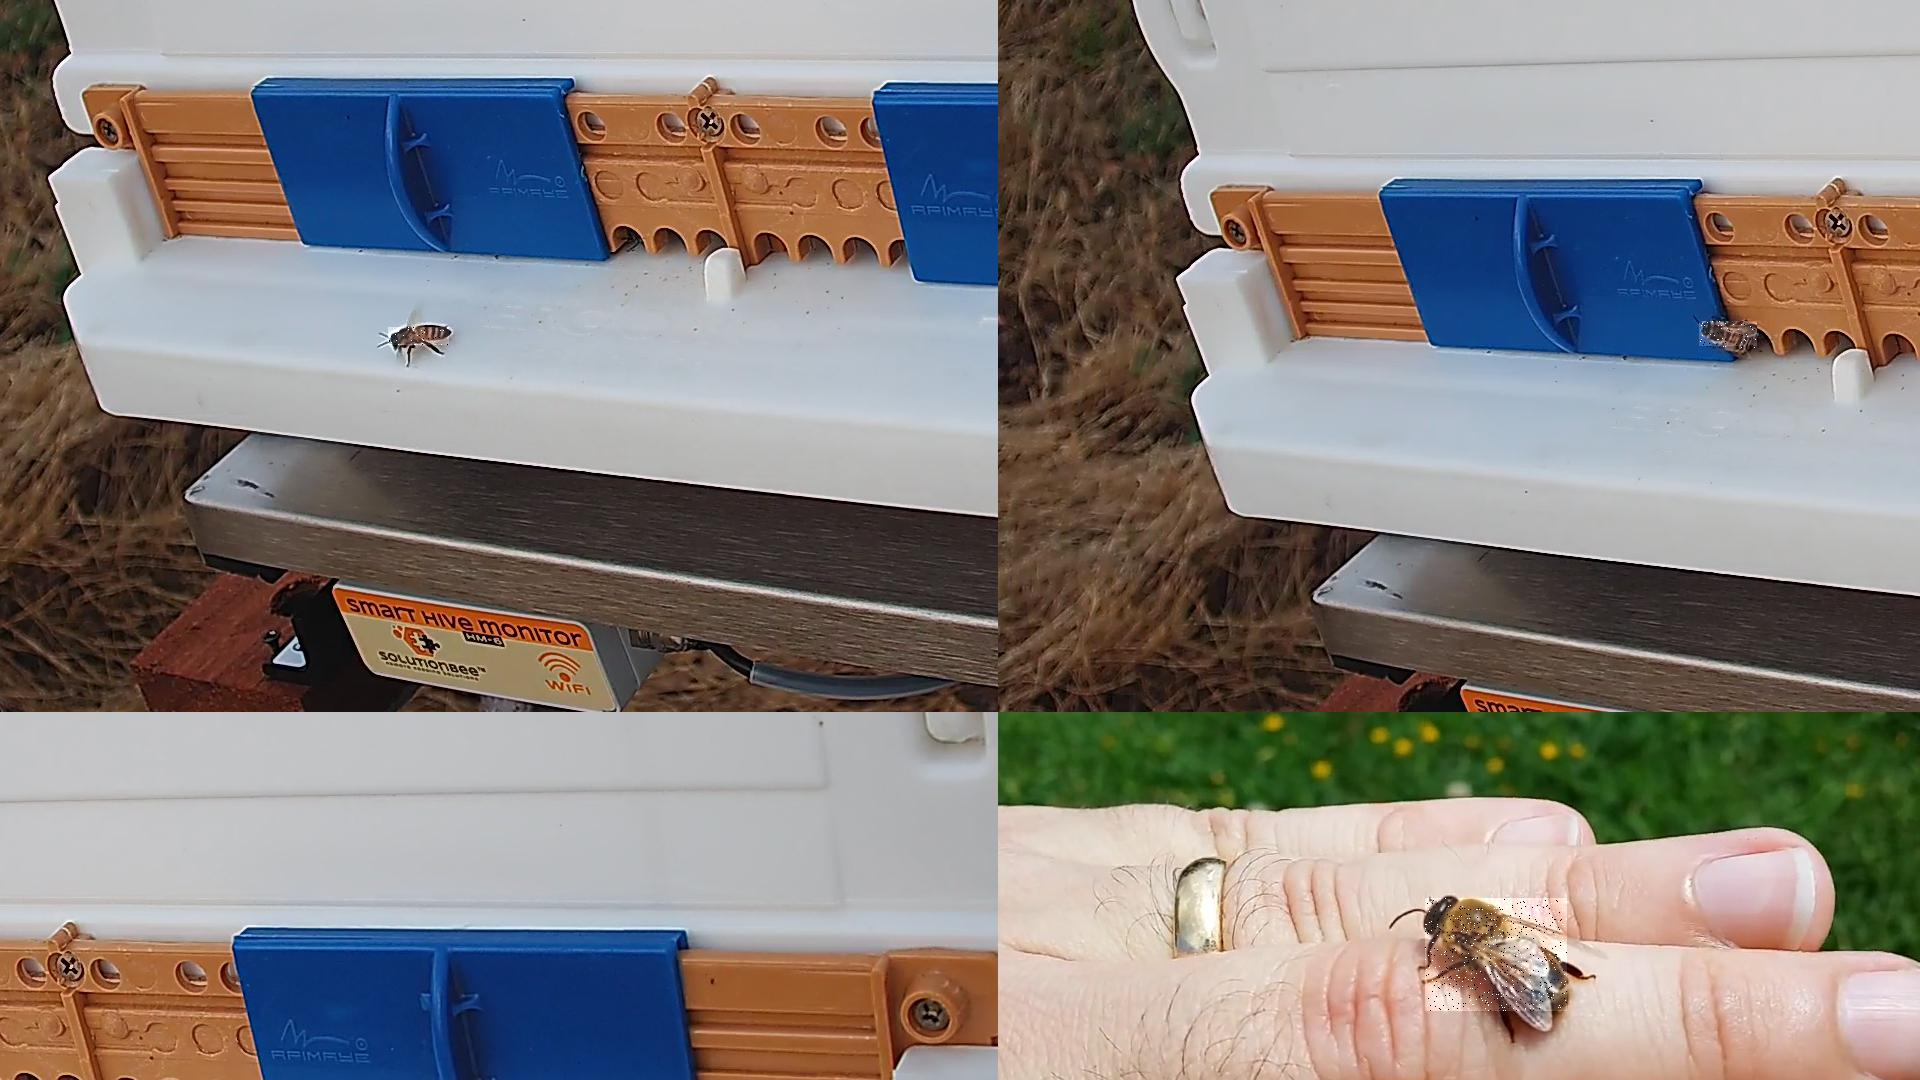bee: (1699, 322, 1758, 350), (388, 327, 450, 346)
drone: (1425, 898, 1568, 1012)
